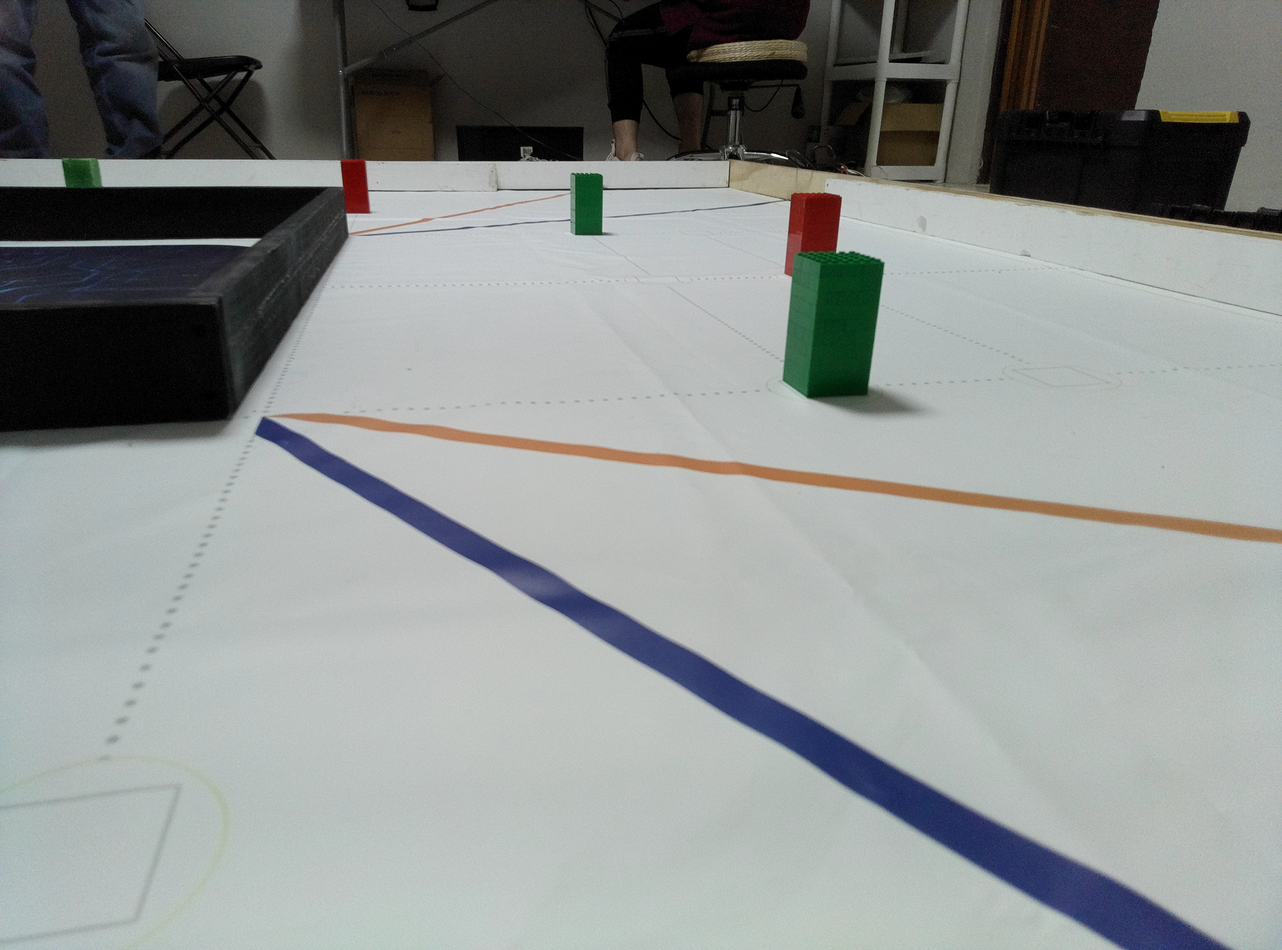greenbox: (784, 252, 885, 397), (571, 174, 603, 236), (64, 160, 105, 186)
redbox: (785, 190, 842, 273), (337, 156, 369, 216)
